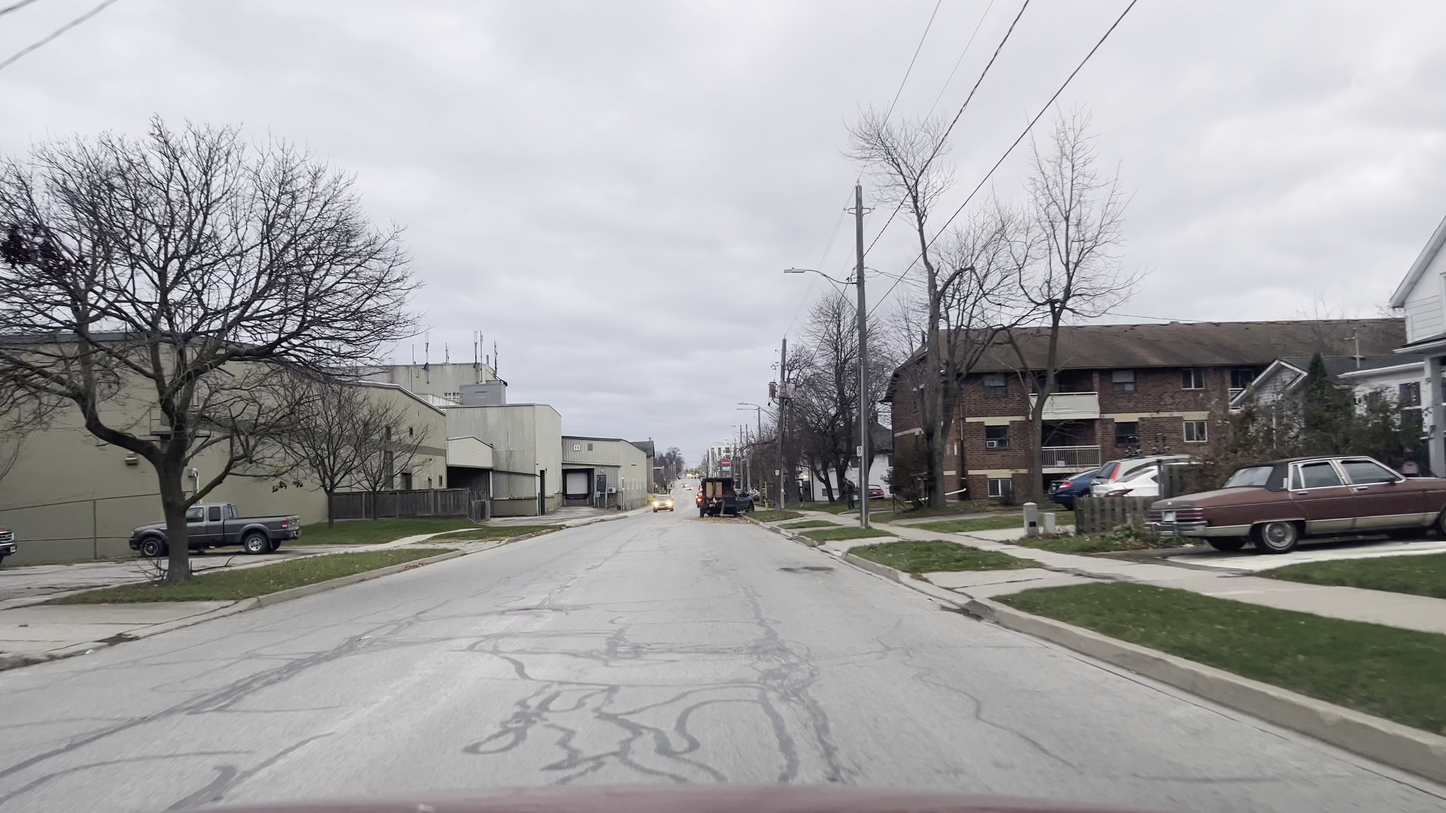cracks: (506, 659, 701, 770), (215, 634, 370, 699), (178, 751, 271, 804), (763, 669, 822, 735)
